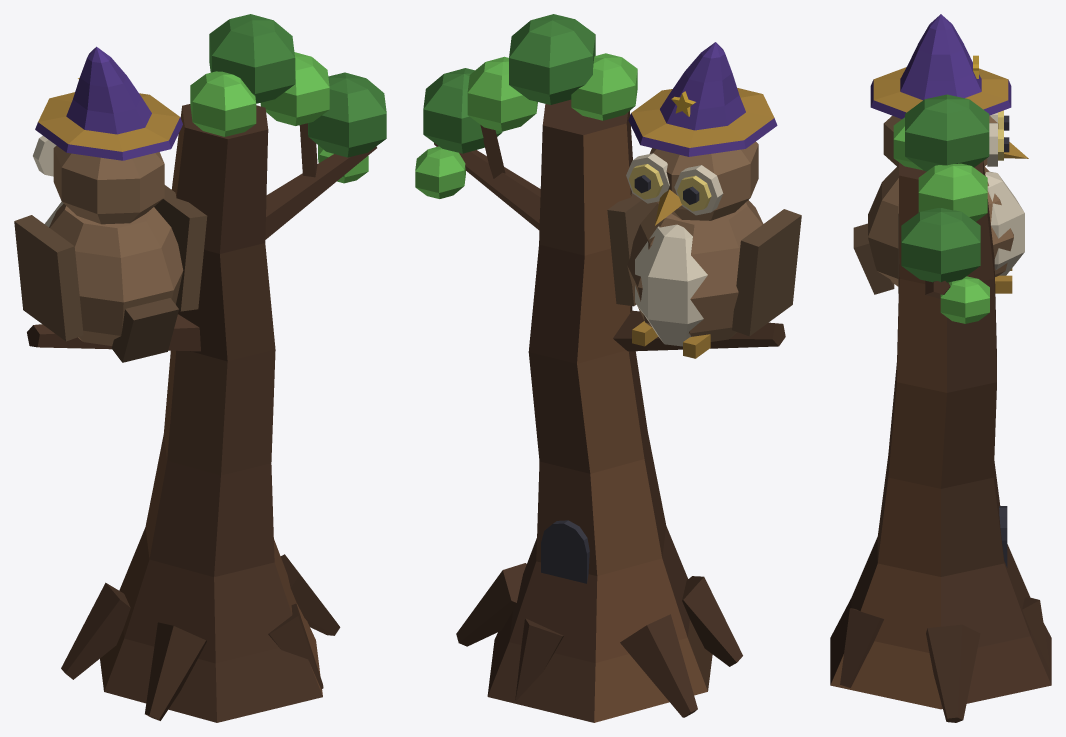
The model's file is Decor_WizardTower_Owl.fbx.
3 views of the same model, side by side, from view 1: azimuth 30°, elevation 25°; view 2: azimuth 150°, elevation 25°; view 3: azimuth 270°, elevation 25° (orthographic). The views are drawn at different scales.
Visible parts, largest first — view 1: Owl_Body; view 2: Owl_Body; view 3: Owl_Body.
Boxes of the visible parts, x1,y1,x2,y2 form: Owl_Body: [14, 14, 386, 722]; Owl_Body: [415, 14, 801, 722]; Owl_Body: [830, 14, 1051, 722].
Size of the model in its own units: 13.57 by 24 by 8.
